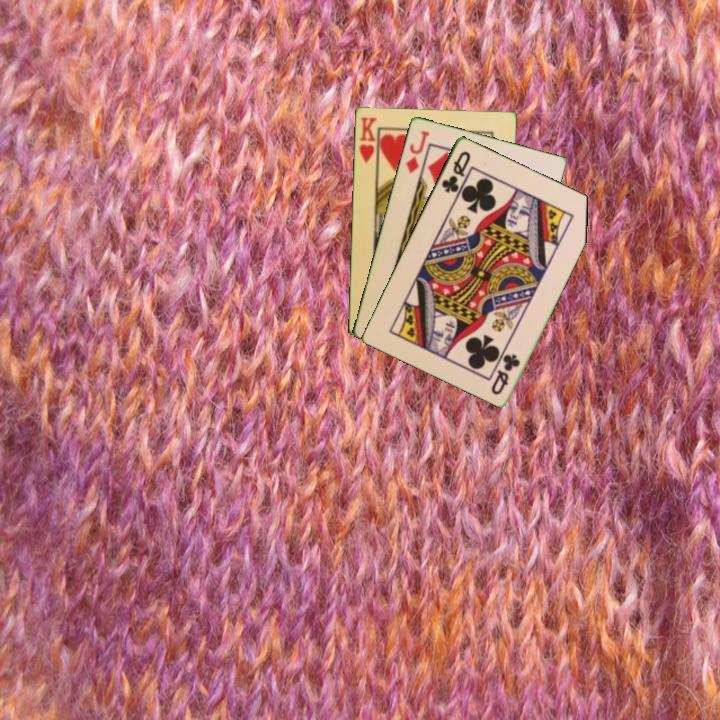Jd: (402, 127, 432, 176)
Kh: (355, 113, 380, 169)
Qc: (487, 350, 523, 398), (438, 147, 473, 196)
